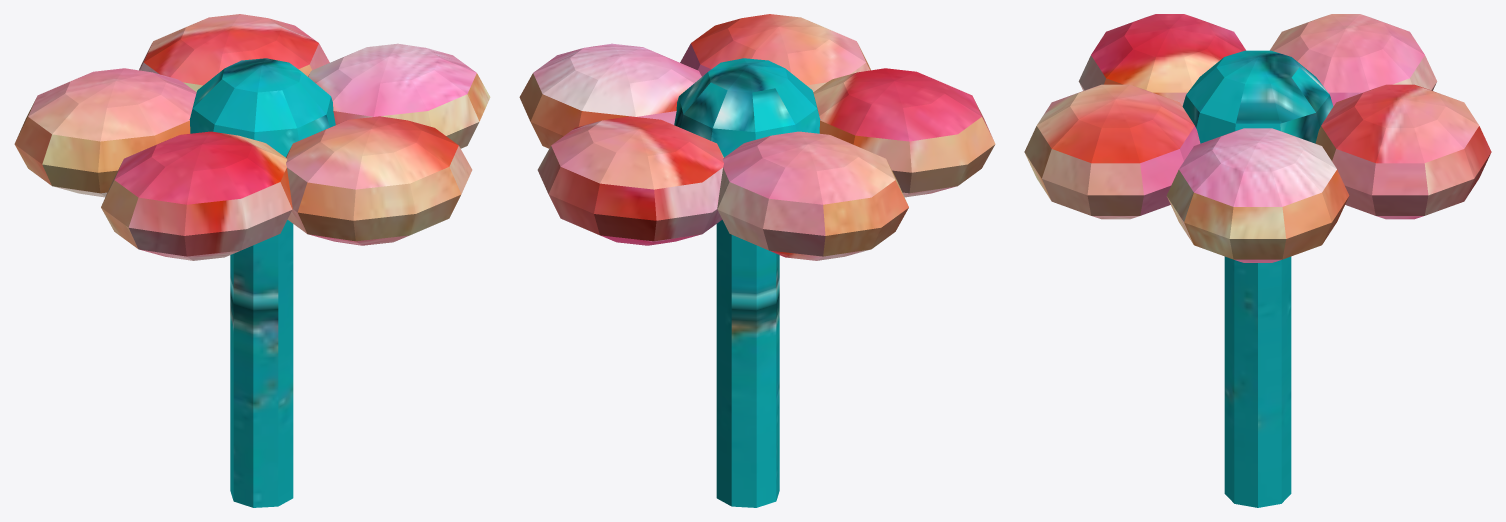
File: deco_bosque_flora.glb
3 views of the same model, side by side, from view 1: azimuth 30°, elevation 25°; view 2: azimuth 150°, elevation 25°; view 3: azimuth 270°, elevation 25° (orthographic).
Visible parts, largest first — view 1: deco_bosque_flora; view 2: deco_bosque_flora; view 3: deco_bosque_flora.
Boxes of the visible parts, x1,y1,x2,y2 form: deco_bosque_flora: [14, 14, 490, 507]; deco_bosque_flora: [519, 14, 995, 507]; deco_bosque_flora: [1024, 14, 1491, 507].
Size of the model in its own units: 0.9878 by 1 by 0.9696.
Materials: 2 (2 with a texture image).
